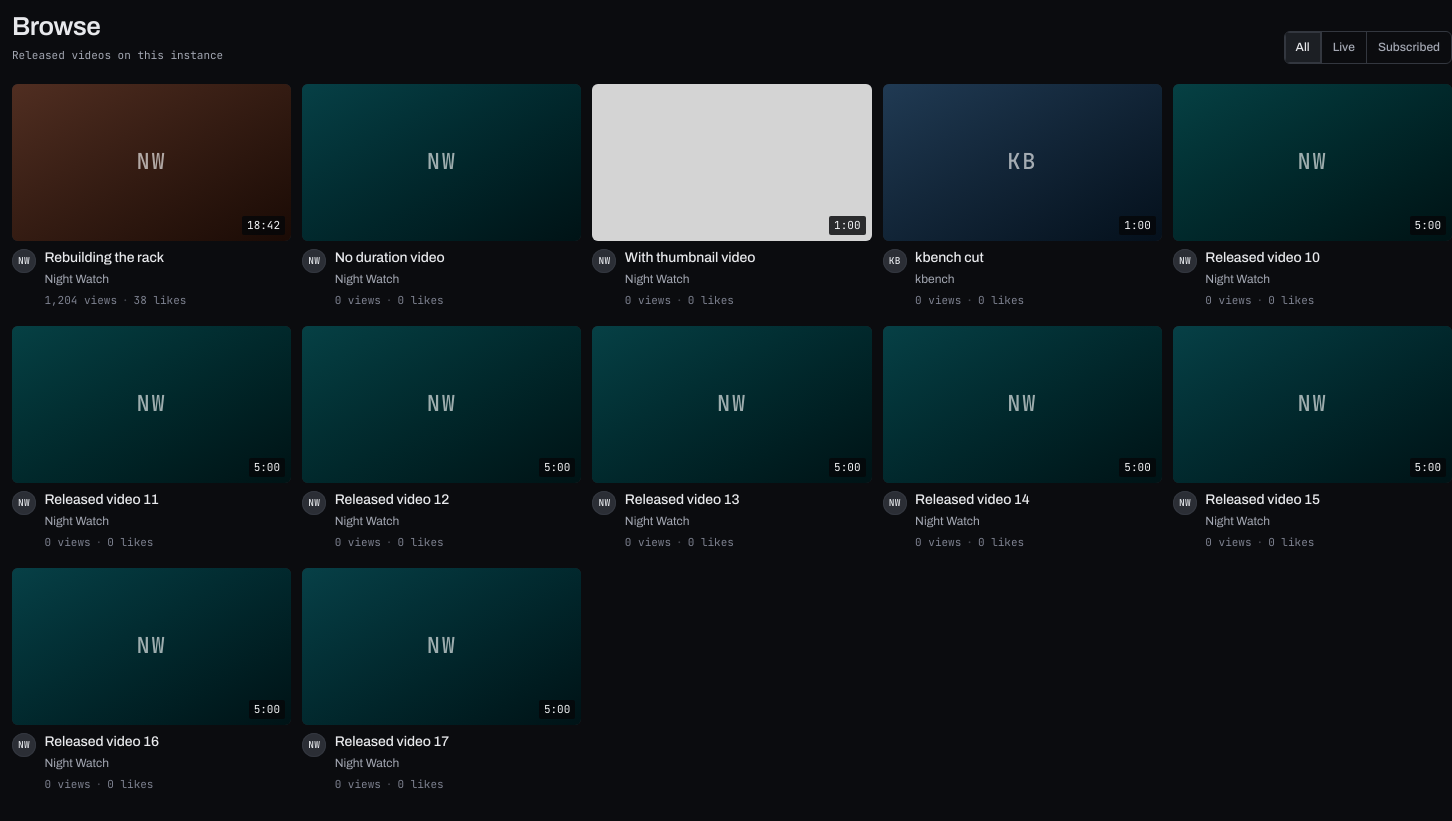
Test: Browse screen › subscribed filter sends onlySubbed=true and drops unsubscribed channels
Expected: the text "kbench cut" is shown, x1=915 y1=250 x2=984 y2=265
Click the radio button labelled "Subscribed". click: point(1408, 47)
box: x1=1366 y1=32 x2=1451 y2=63
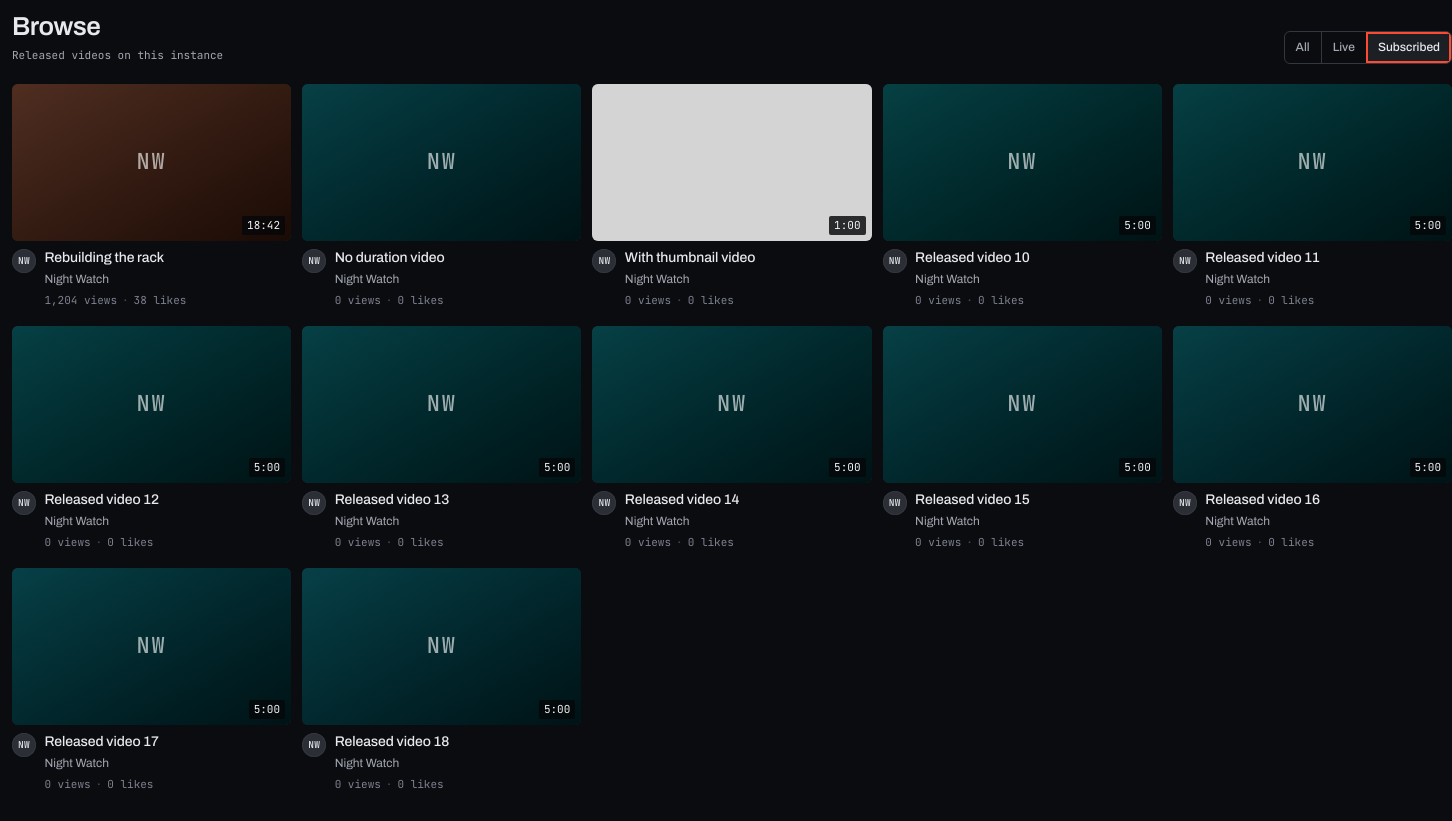
Expected: the text "Rebuilding the rack" is shown, x1=44 y1=250 x2=164 y2=265
Expected: the link "kbench cut" is gone
